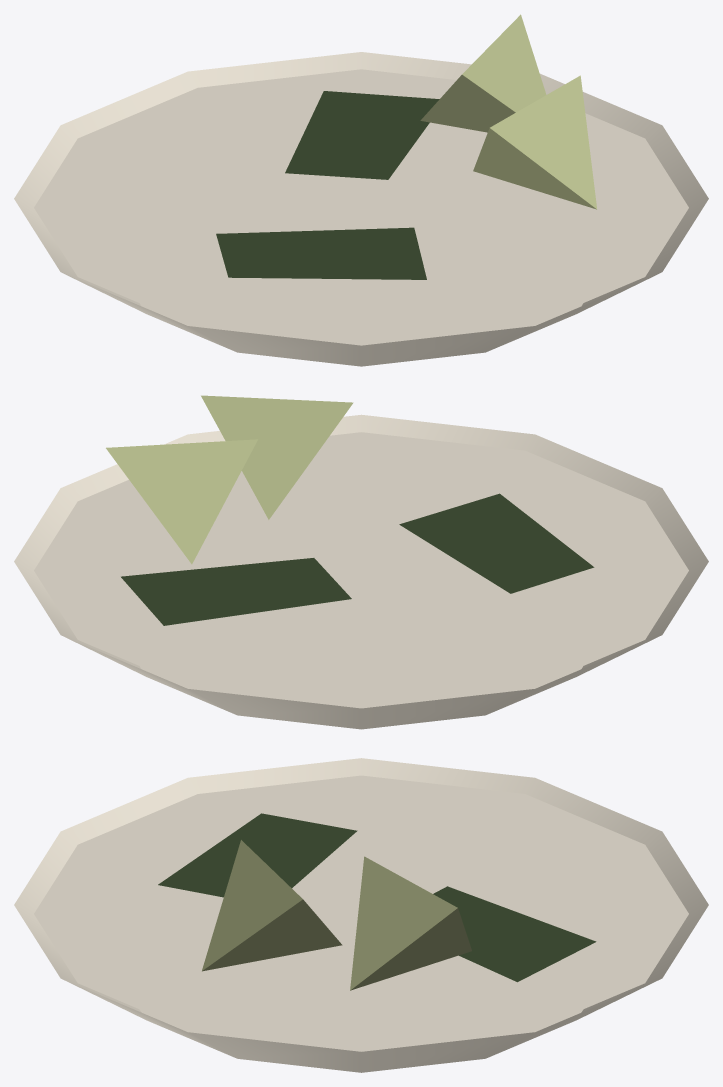
Rendered from DiaTrauCau.glb.
3 views of the same model, one above another, from view 1: azimuth 30°, elevation 25°; view 2: azimuth 150°, elevation 25°; view 3: azimuth 270°, elevation 25° (orthographic).
Parts seen in each view (by area): view 1: DiaTrauCau_Dia, DiaTrauCau_LaTrau, DiaTrauCau_QuaCau; view 2: DiaTrauCau_Dia, DiaTrauCau_LaTrau, DiaTrauCau_QuaCau; view 3: DiaTrauCau_Dia, DiaTrauCau_QuaCau, DiaTrauCau_LaTrau.
Part boxes in pixels (box(x1,y1,x2,y2)): DiaTrauCau_Dia: box(14, 52, 708, 366); DiaTrauCau_LaTrau: box(216, 91, 439, 279); DiaTrauCau_QuaCau: box(420, 14, 597, 209); DiaTrauCau_Dia: box(14, 414, 708, 729); DiaTrauCau_LaTrau: box(121, 493, 594, 625); DiaTrauCau_QuaCau: box(106, 395, 353, 564); DiaTrauCau_Dia: box(14, 758, 708, 1072); DiaTrauCau_QuaCau: box(202, 840, 471, 990); DiaTrauCau_LaTrau: box(158, 813, 596, 982).
Size of the model in its own units: 0.14 by 0.0359 by 0.14.
